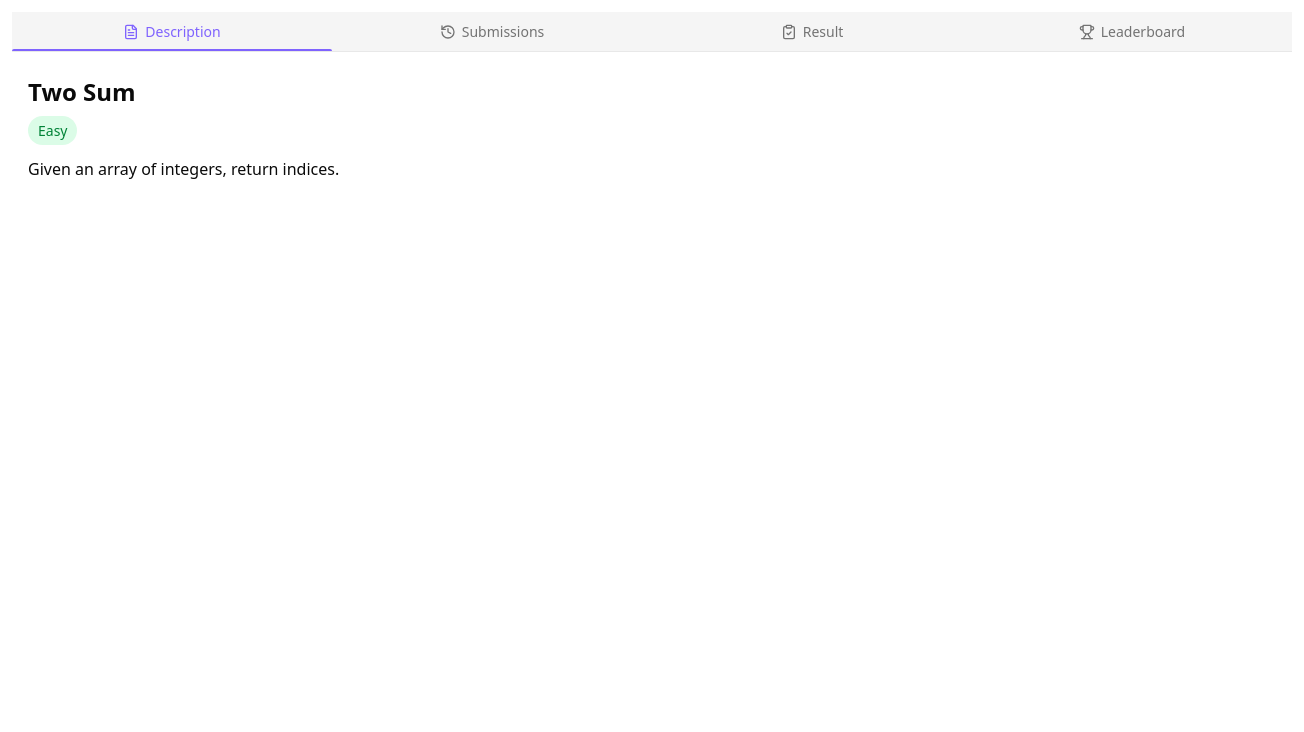
Test: CodeDescArea — submission detail view › shows stderr and compile_output when present
Expected: the element with test id "tabs-list" is shown, [12,12,1292,52]
Click the tab "Submissions": (492, 32) [332,12,652,51]
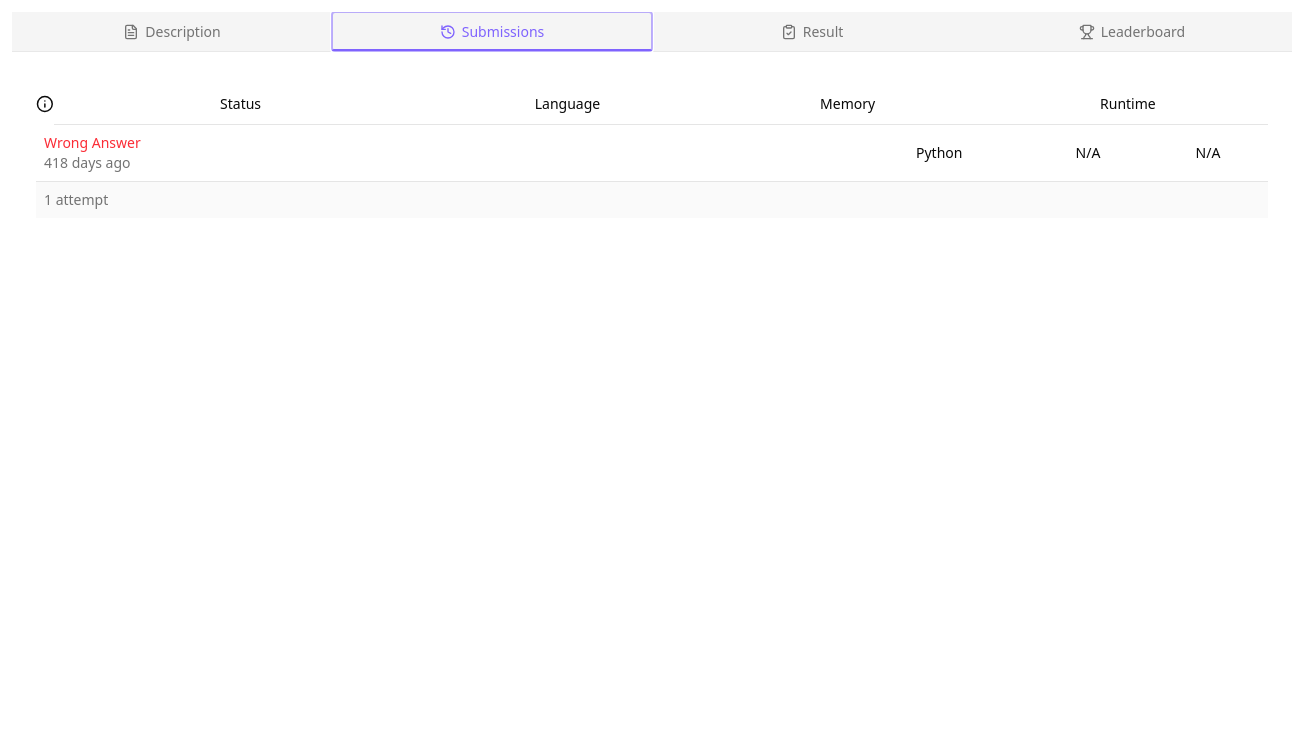
Expected: the row with test id "submission-1" is shown
Click the row with test id "submission-1": (92, 142) [36,124,1268,180]
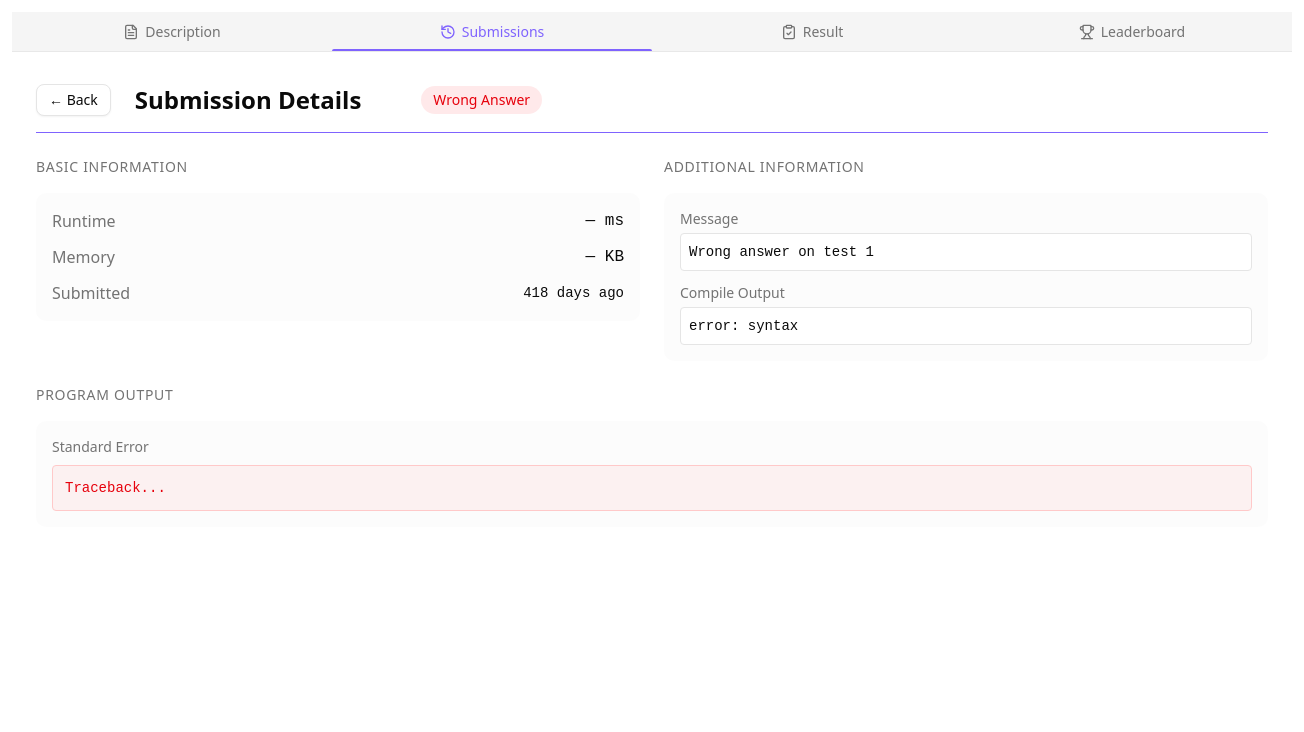
Expected: the text "Traceback..." is shown, [52,465,1252,511]
Expected: the text "error: syntax" is shown, [680,307,1252,345]
Expected: the text "Wrong answer on test 1" is shown, [680,233,1252,271]
